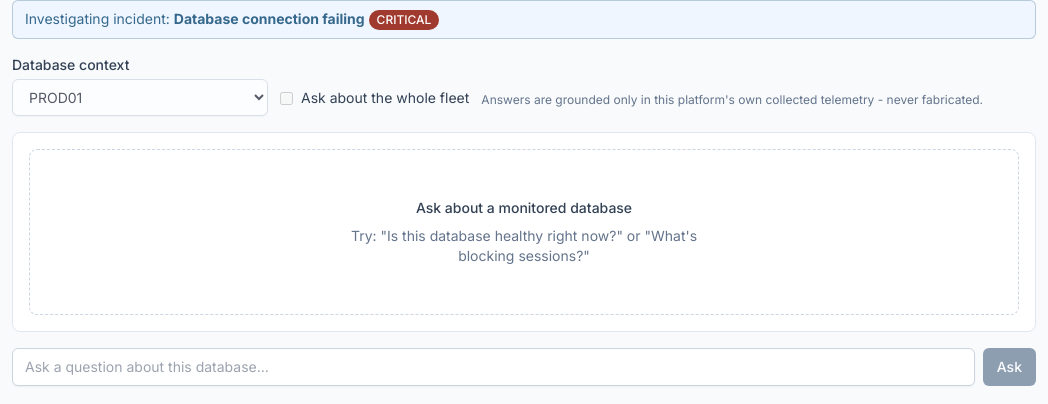
AiCopilotPage › carries incident_id into the request and shows an investigating-incident banner
Expected: the text "Database connection failing" is shown, [174,10,365,27]
Expected: the text "CRITICAL" is shown, [369,10,439,30]
Step 1. Type "What's the root cause?" into the field with placeholder "Ask a question about this database…" → (493, 367), box [12,348,975,386]
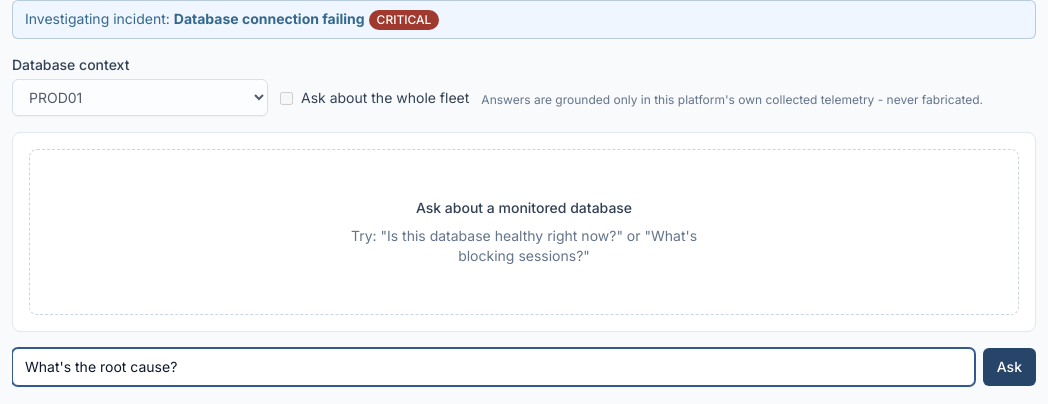
Step 2. Click the button "Ask" → (1009, 367), box [983,348,1036,386]
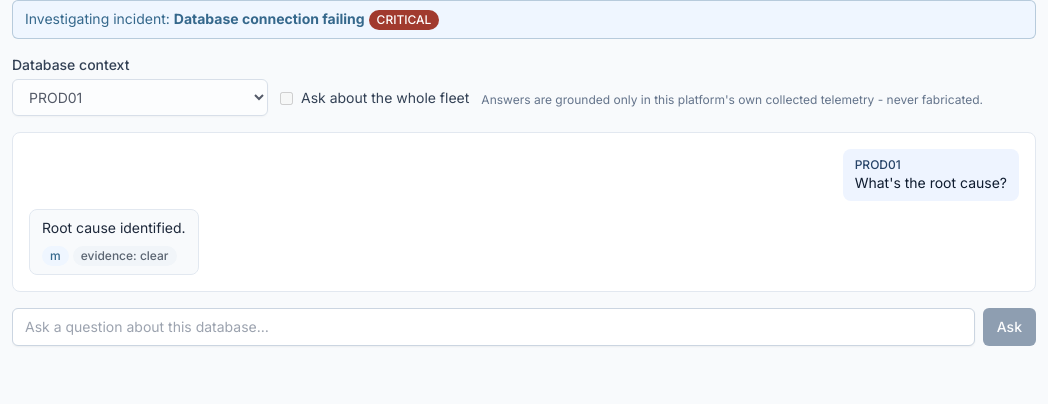
Expected: the text "Root cause identified." is shown, [42,218,186,238]
